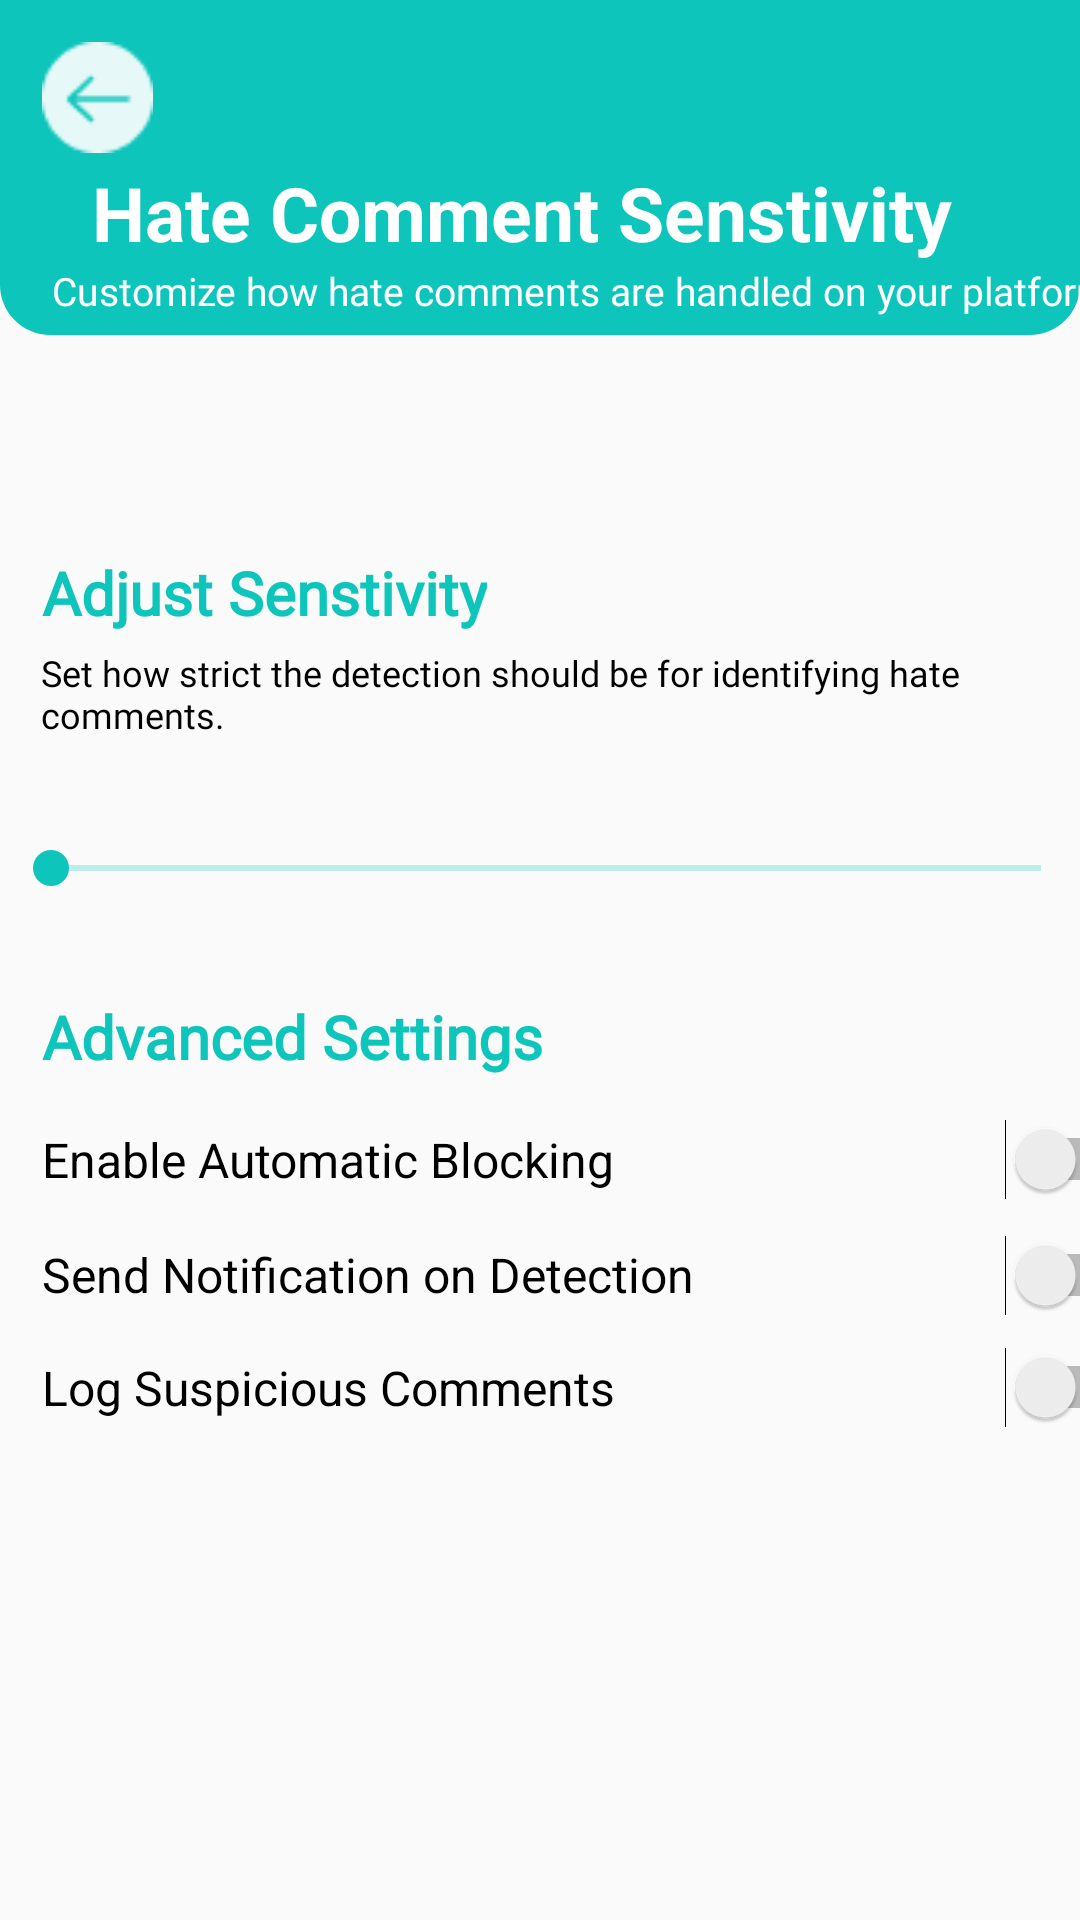

Where icons sit on this 1080 × 1920 app screen, as (x1, y1, x2, y2):
bakbtn: (42, 42, 153, 153)
